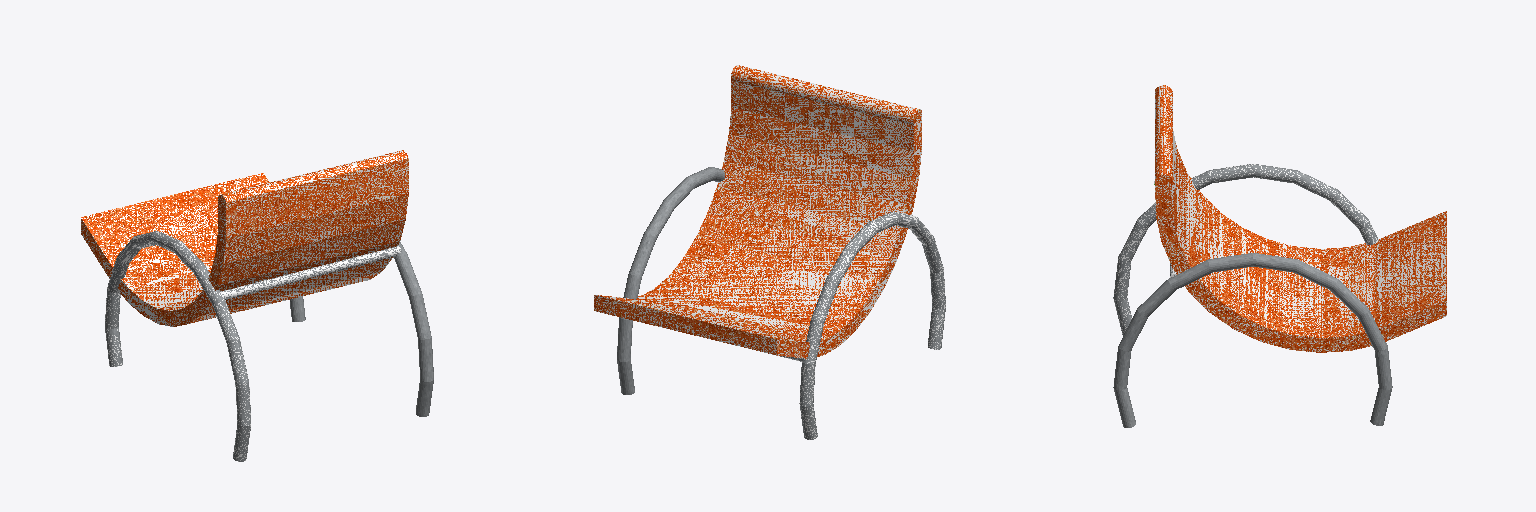
The picture shows the model from 3 angles: view 1: azimuth 30°, elevation 25°; view 2: azimuth 150°, elevation 25°; view 3: azimuth 270°, elevation 25°; orthographic projection.
Parts seen in each view (by area): view 1: mesh13_mesh13-geometry, mesh12_mesh12-geometry, mesh11_mesh11-geometry, mesh15_mesh15-geometry; view 2: mesh13_mesh13-geometry, mesh12_mesh12-geometry, mesh11_mesh11-geometry; view 3: mesh13_mesh13-geometry, mesh11_mesh11-geometry, mesh12_mesh12-geometry.
Boxes of the visible parts, x1,y1,x2,y2 form: mesh13_mesh13-geometry: [81, 150, 408, 326]; mesh12_mesh12-geometry: [105, 231, 250, 461]; mesh11_mesh11-geometry: [290, 242, 433, 416]; mesh15_mesh15-geometry: [219, 246, 401, 299]; mesh13_mesh13-geometry: [594, 65, 921, 358]; mesh12_mesh12-geometry: [799, 211, 945, 439]; mesh11_mesh11-geometry: [617, 167, 724, 394]; mesh13_mesh13-geometry: [1154, 85, 1446, 352]; mesh11_mesh11-geometry: [1113, 253, 1392, 427]; mesh12_mesh12-geometry: [1113, 164, 1378, 335].
Bounding box in the file's own units: 0.4603 × 0.5685 × 0.6818.
Materials: 6 (3 with a texture image).